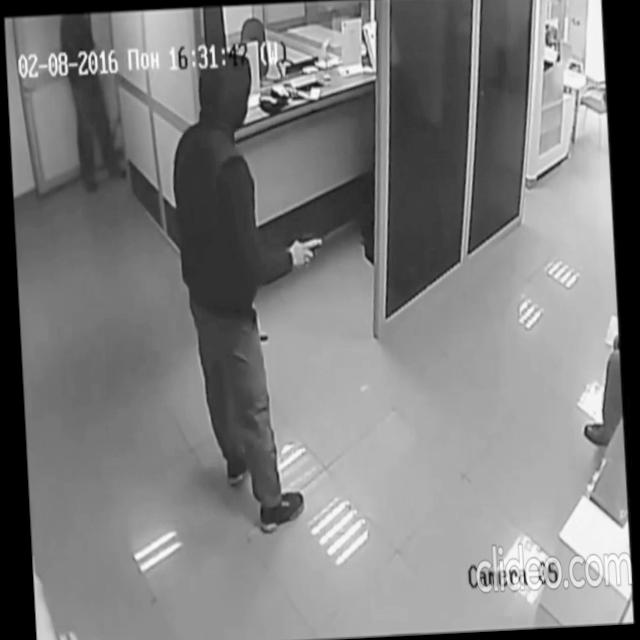gun: (296, 227, 325, 250)
person with a gun: (166, 46, 342, 536)
